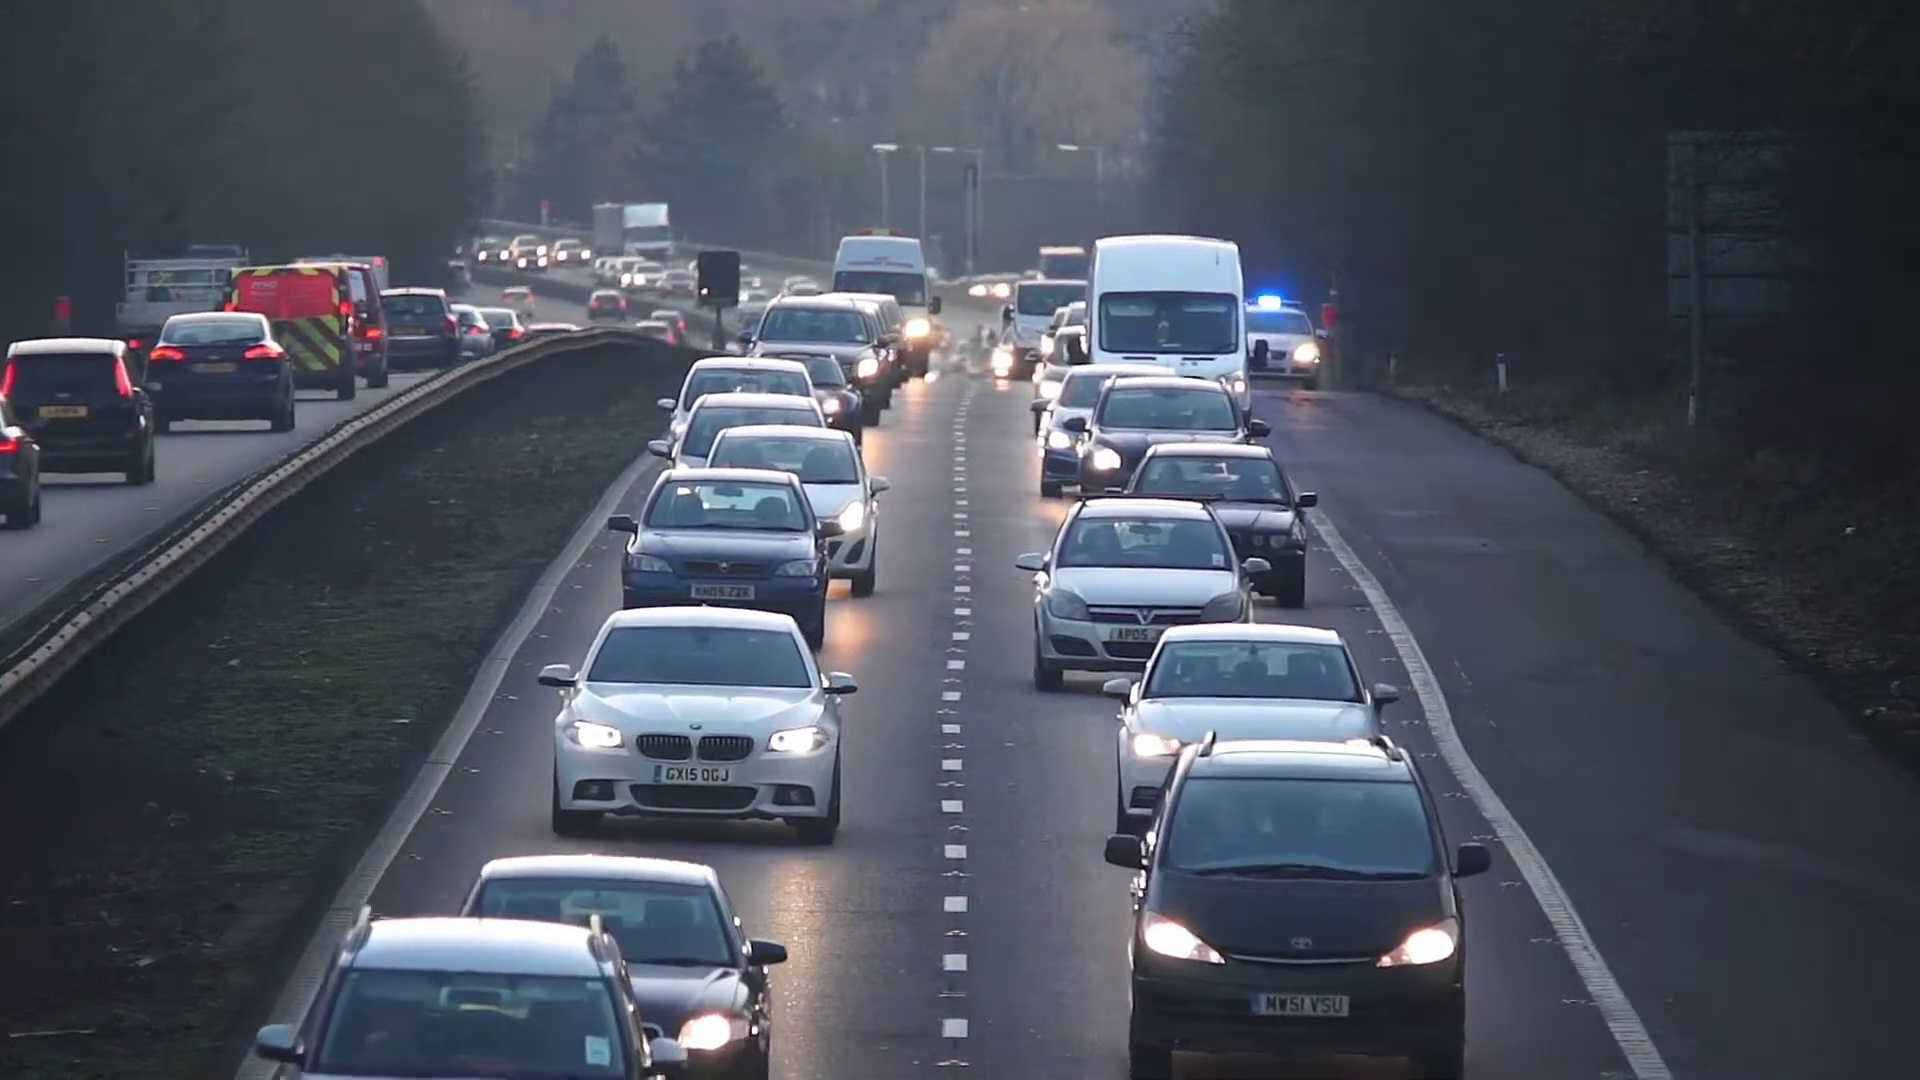license_plate: (1254, 991, 1352, 1021), (687, 578, 757, 608), (652, 765, 738, 788), (1107, 622, 1154, 646)
